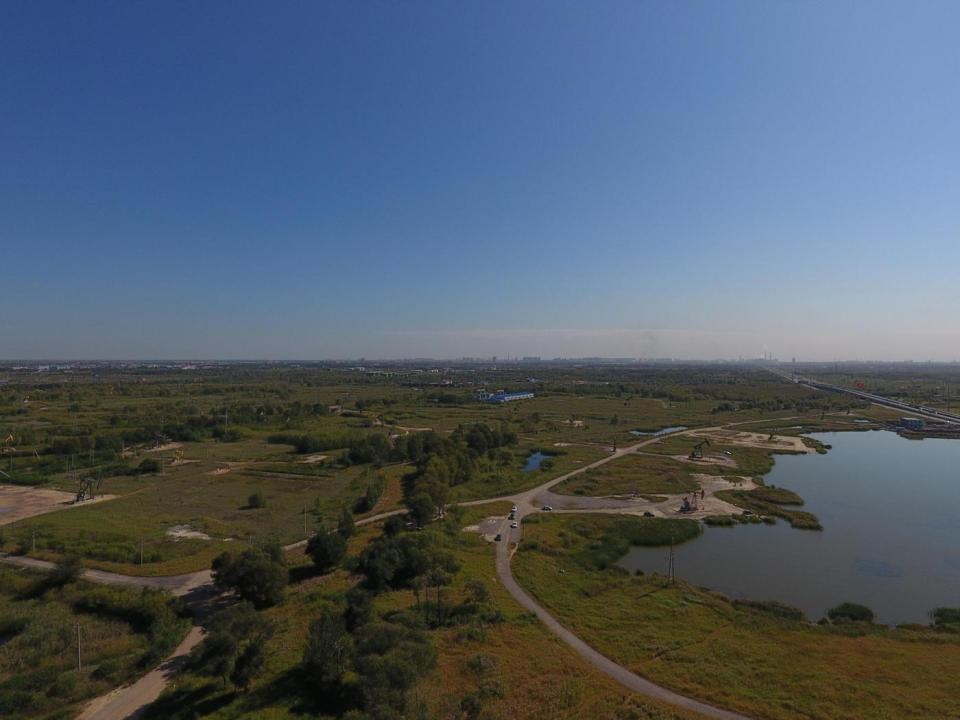car: (643, 511, 656, 517), (741, 509, 754, 515), (542, 505, 552, 511), (511, 520, 518, 528), (509, 512, 515, 519), (511, 506, 518, 512), (496, 534, 501, 541)
